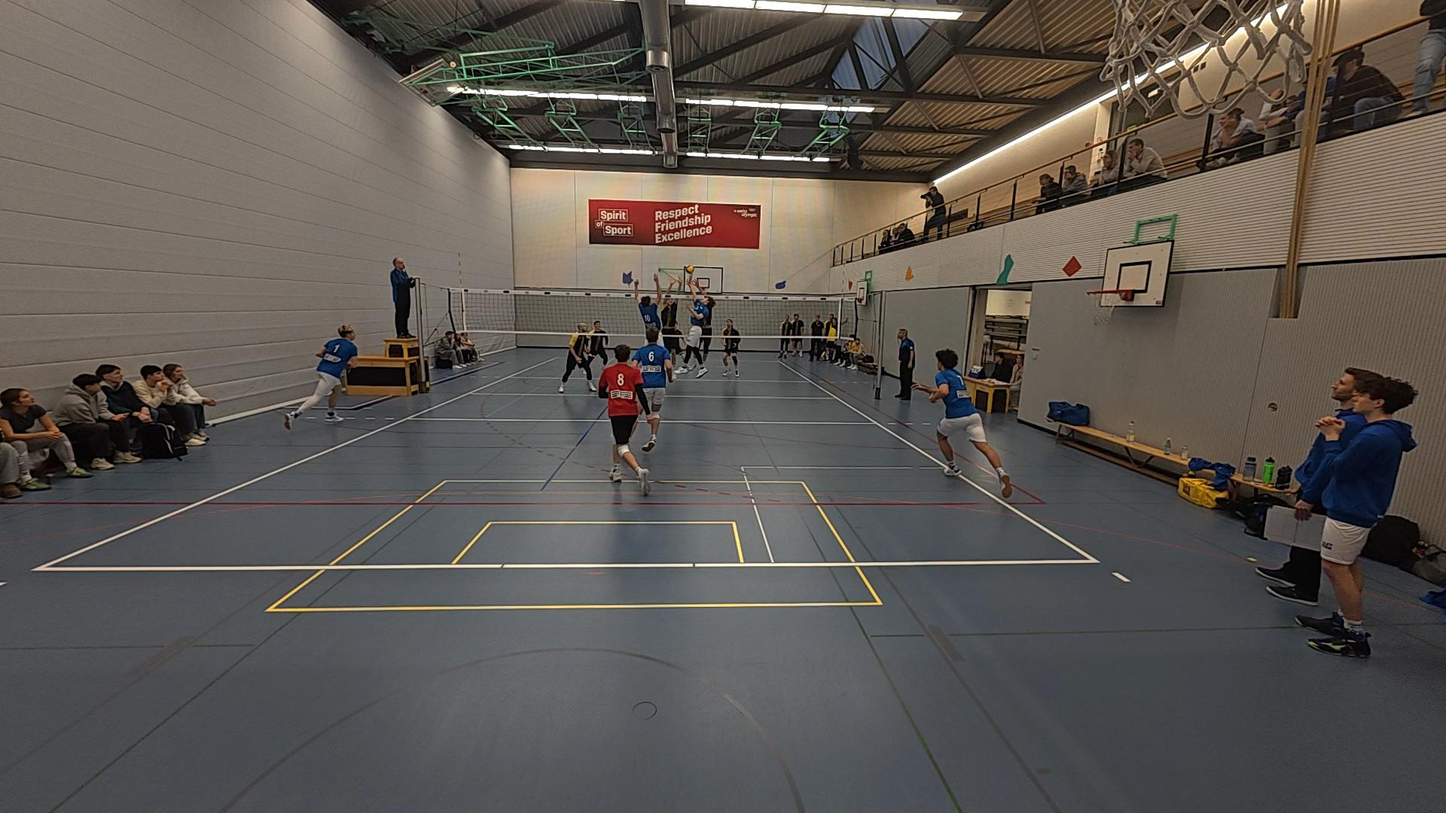Block: (657, 267, 688, 375), (691, 276, 719, 376)
Player: (922, 349, 1012, 499), (283, 325, 359, 427), (598, 346, 652, 487), (629, 331, 671, 451), (557, 321, 599, 394), (631, 269, 665, 355), (718, 316, 742, 377), (585, 319, 612, 371)
Set: (676, 264, 714, 381)
ball: (901, 265, 917, 280), (682, 263, 694, 275)
